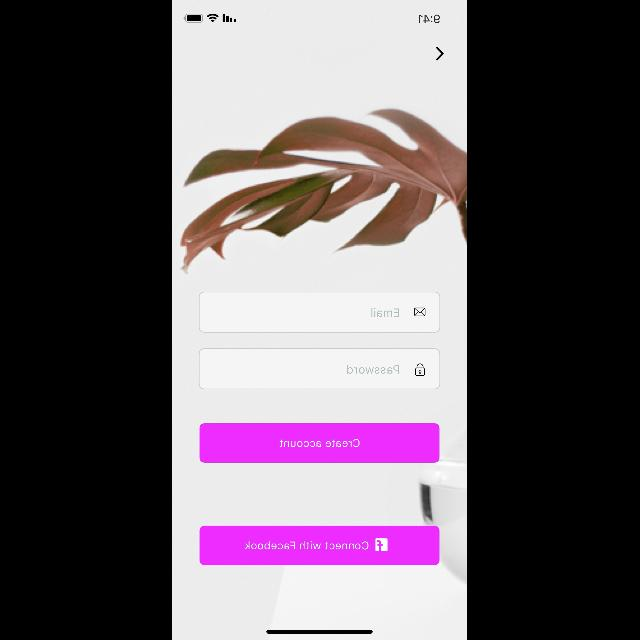backgroundimage: (172, 1, 468, 640)
icon: (416, 364, 426, 376), (438, 47, 444, 61), (416, 308, 426, 316)
image: (180, 108, 468, 276)
input: (199, 348, 441, 389), (199, 292, 441, 332)
text: (348, 364, 400, 374), (372, 308, 400, 318)
textbutton: (200, 423, 440, 462), (200, 526, 440, 564)
uppertaskbar: (184, 14, 440, 24)
